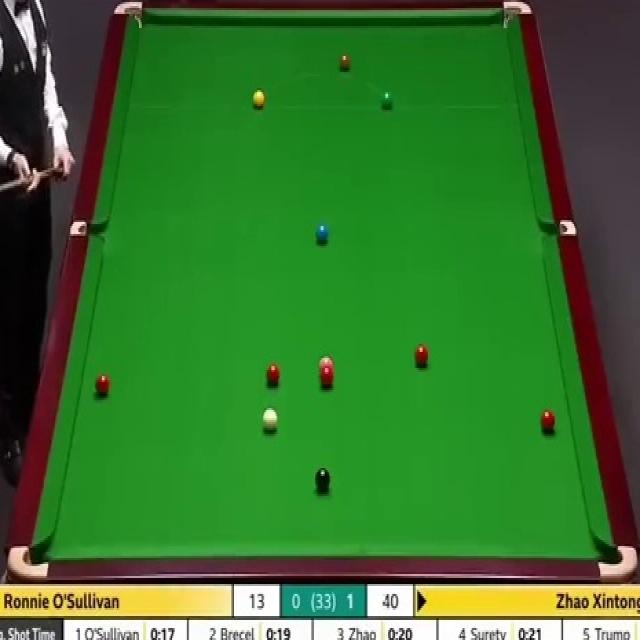black-ball: (315, 466, 331, 492)
blue-ball: (315, 222, 330, 244)
brown-ball: (338, 52, 351, 72)
green-ball: (380, 89, 393, 110)
pink-ball: (318, 356, 334, 370)
red-ball: (95, 372, 111, 398), (540, 411, 557, 433), (318, 367, 335, 388), (265, 364, 280, 386), (414, 345, 428, 368)
white-ball: (261, 408, 278, 432)
yellow-ball: (254, 91, 267, 111)
